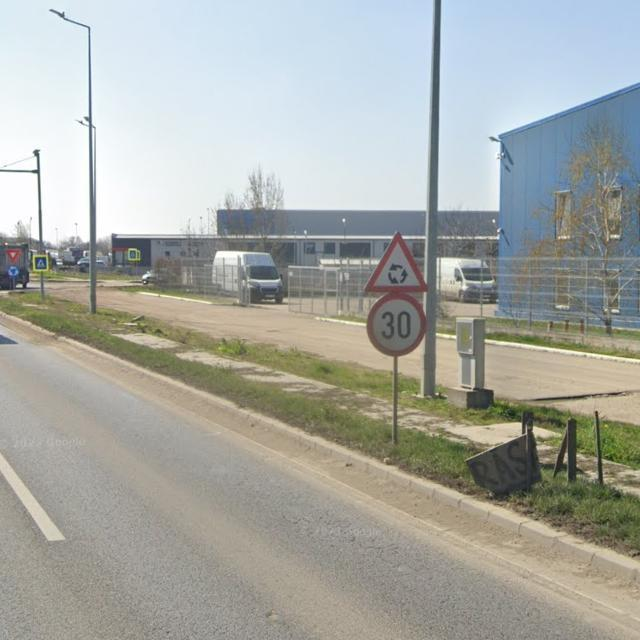forb_speed_over_30: (365, 294, 426, 358)
info_crosswalk: (34, 256, 50, 272)
prio_give_way: (4, 249, 22, 265)
